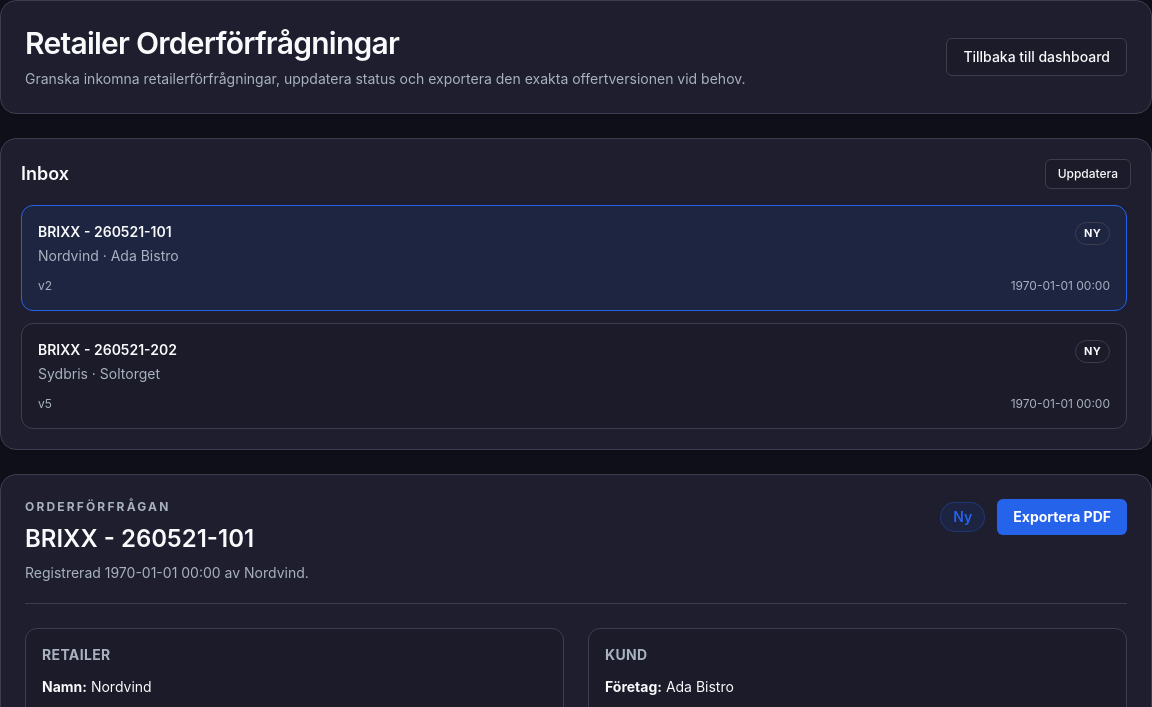
Test case: RetailerOrderRequests › updates the compact item list when switching between order requests
Expected: the element with test id "order-request-items" does not show "Solero"
Click the button that starts with "BRIXX - 260521-202".
click(107, 350)  # box [21,323,1127,429]
(page scrolled)
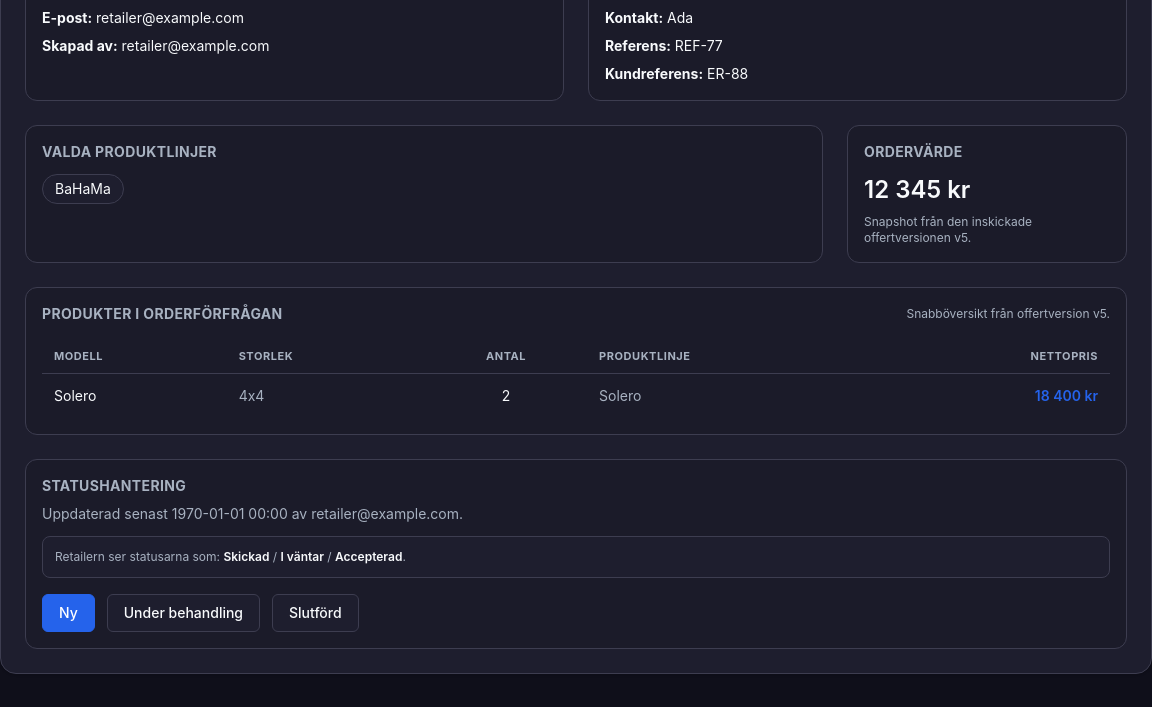
Result: the element with test id "order-request-items" shows "Solero" at [54,386,96,404]
Result: the element with test id "order-request-items" shows "4x4" at [239,386,264,404]
